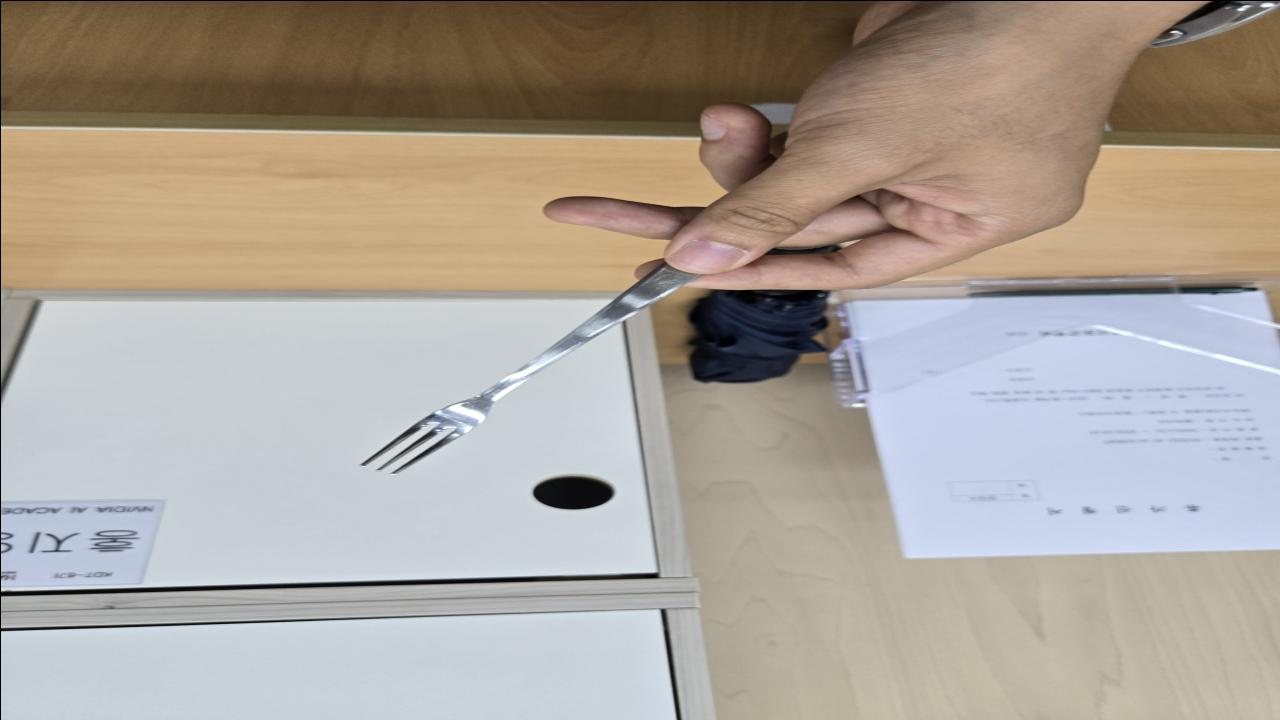fork: (351, 263, 703, 476)
